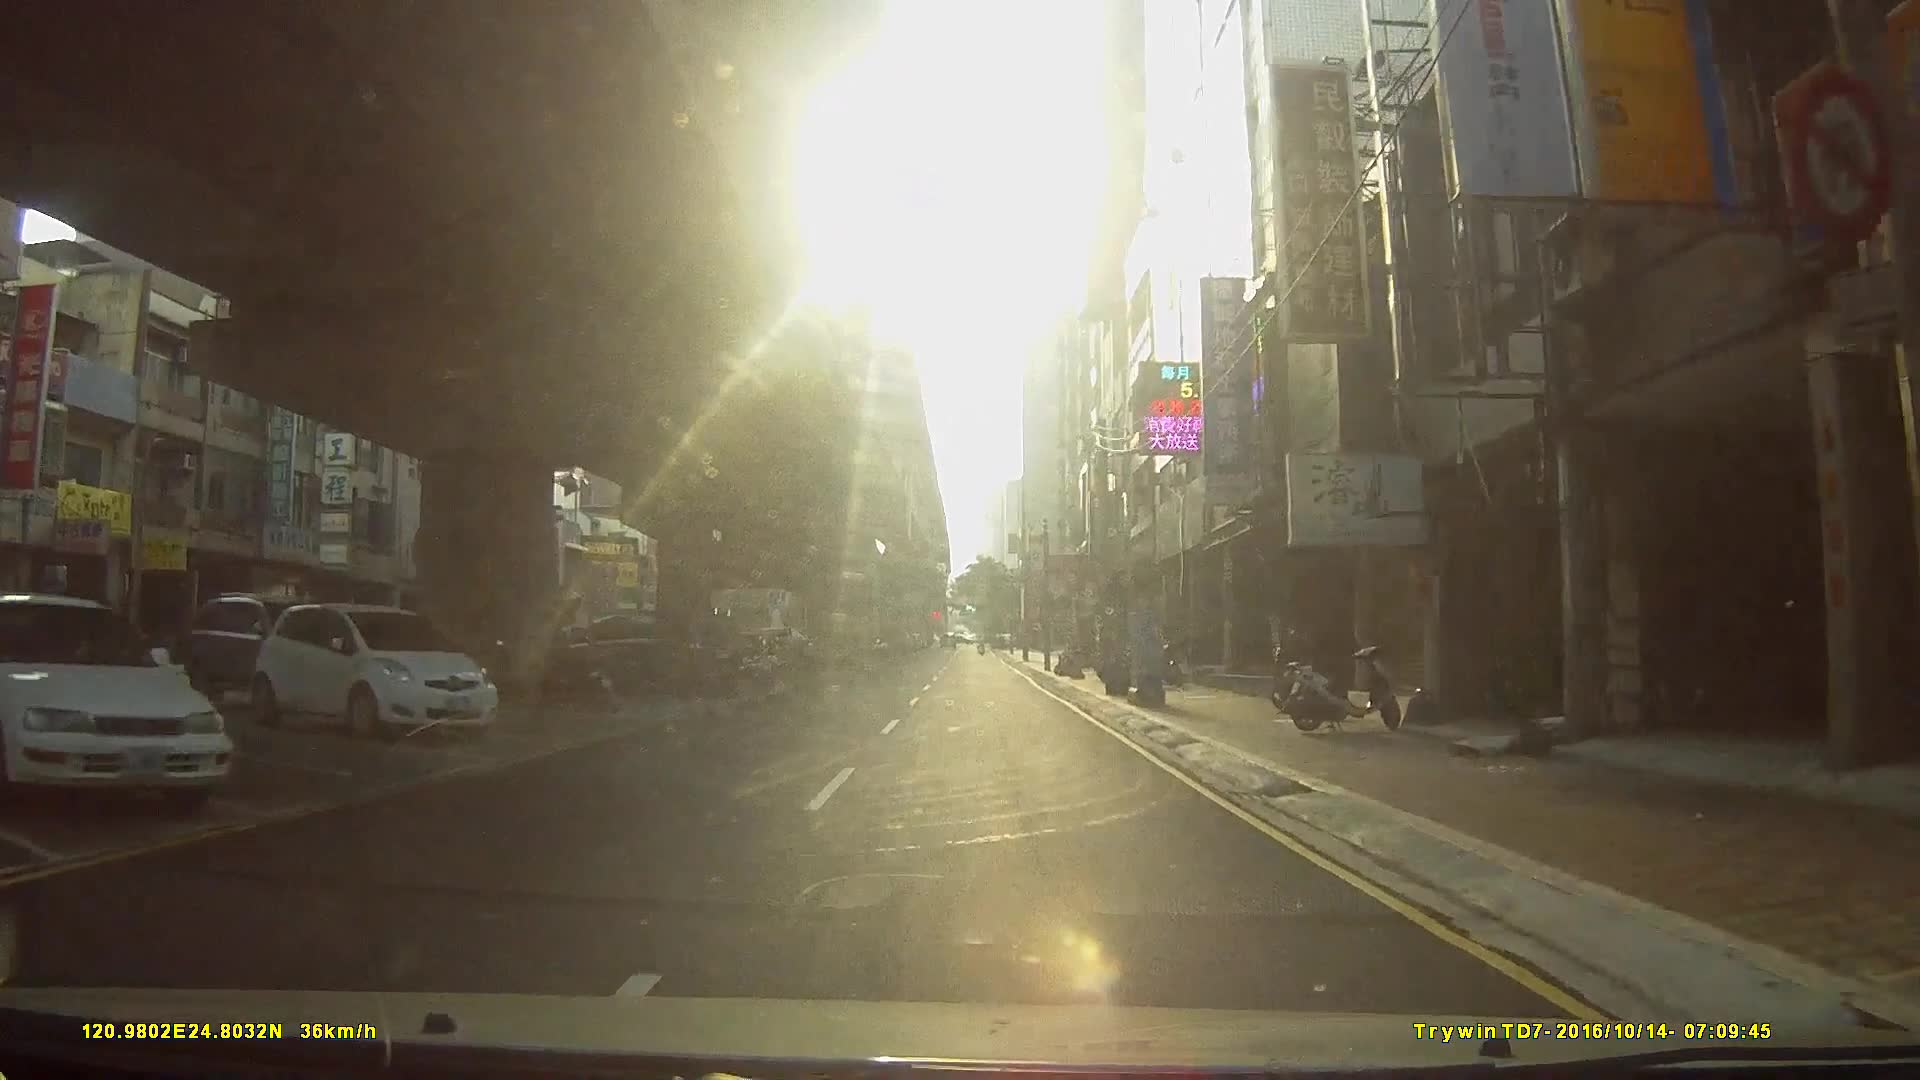vehicle: (0, 592, 233, 818), (249, 599, 500, 742), (179, 593, 332, 700)
